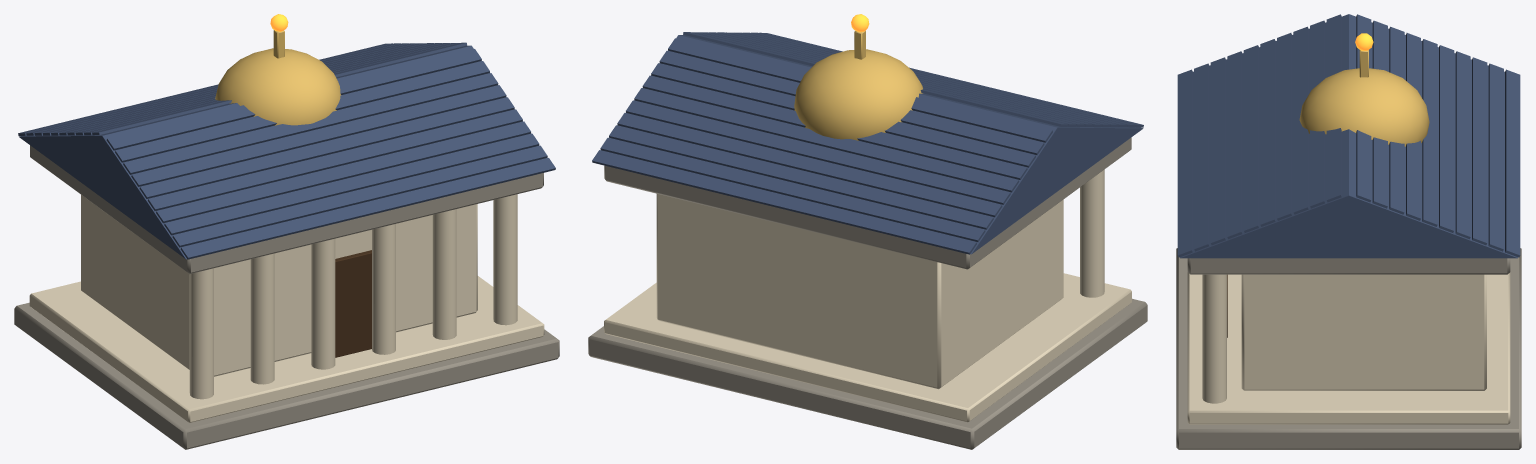
The model's file is temple.glb.
3 renders of one model, left to right at view 1: azimuth 30°, elevation 25°; view 2: azimuth 150°, elevation 25°; view 3: azimuth 270°, elevation 25°, orthographic. The views are drawn at different scales.
Parts seen in each view (by area): view 1: building; view 2: building; view 3: building.
Part boxes in pixels (box(x1,y1,x2,y2)): building: box(14, 14, 559, 449); building: box(588, 14, 1147, 449); building: box(1176, 14, 1521, 449).
Bounding box in the file's own units: 5.7 × 4.67 × 4.5.
